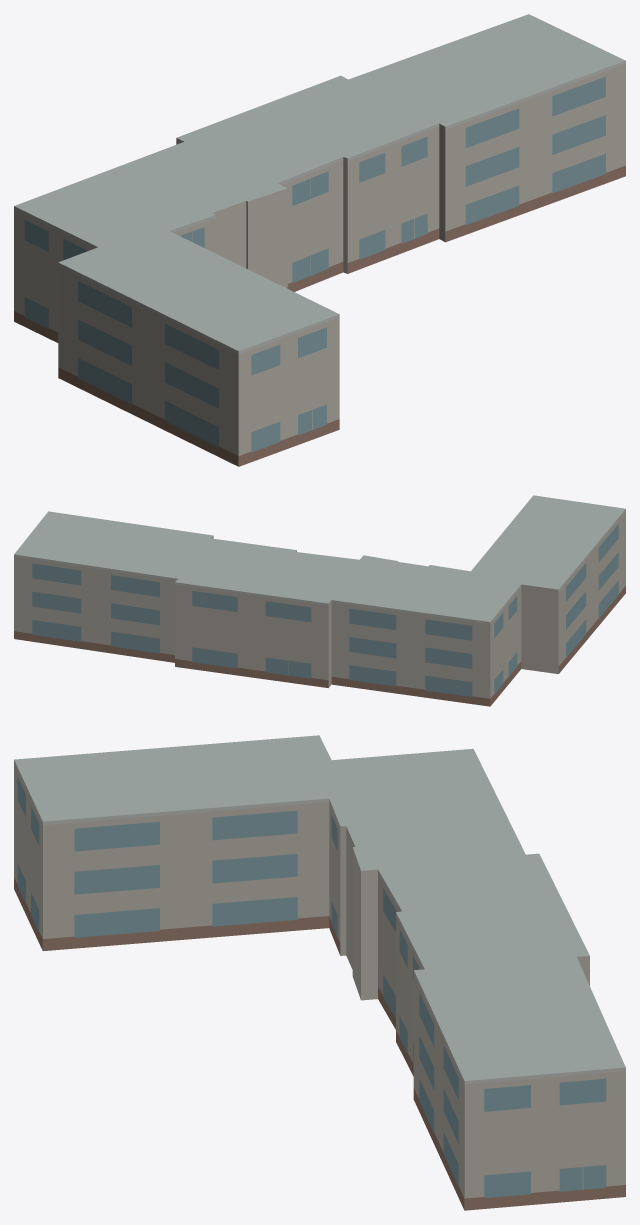
File: survey-upis-32585666.glb
3 renders of one model, top to bottom at view 1: azimuth 30°, elevation 25°; view 2: azimuth 150°, elevation 25°; view 3: azimuth 270°, elevation 25°, orthographic. The views are drawn at different scales.
Parts seen in each view (by area): view 1: survey-upis-32585666.tmp; view 2: survey-upis-32585666.tmp; view 3: survey-upis-32585666.tmp.
Boxes of the visible parts, <box> form: survey-upis-32585666.tmp: <box>14,14,625,466</box>; survey-upis-32585666.tmp: <box>14,495,625,706</box>; survey-upis-32585666.tmp: <box>14,735,625,1210</box>.
Bounding box in the file's own units: 52.41 × 9.15 × 39.18.
